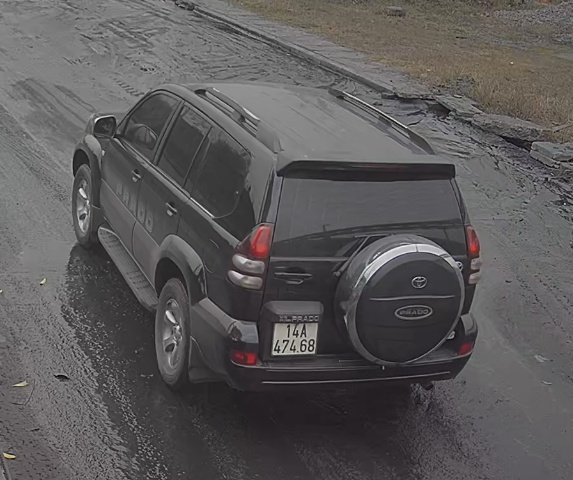vehicle plate: (272, 318, 322, 357)
